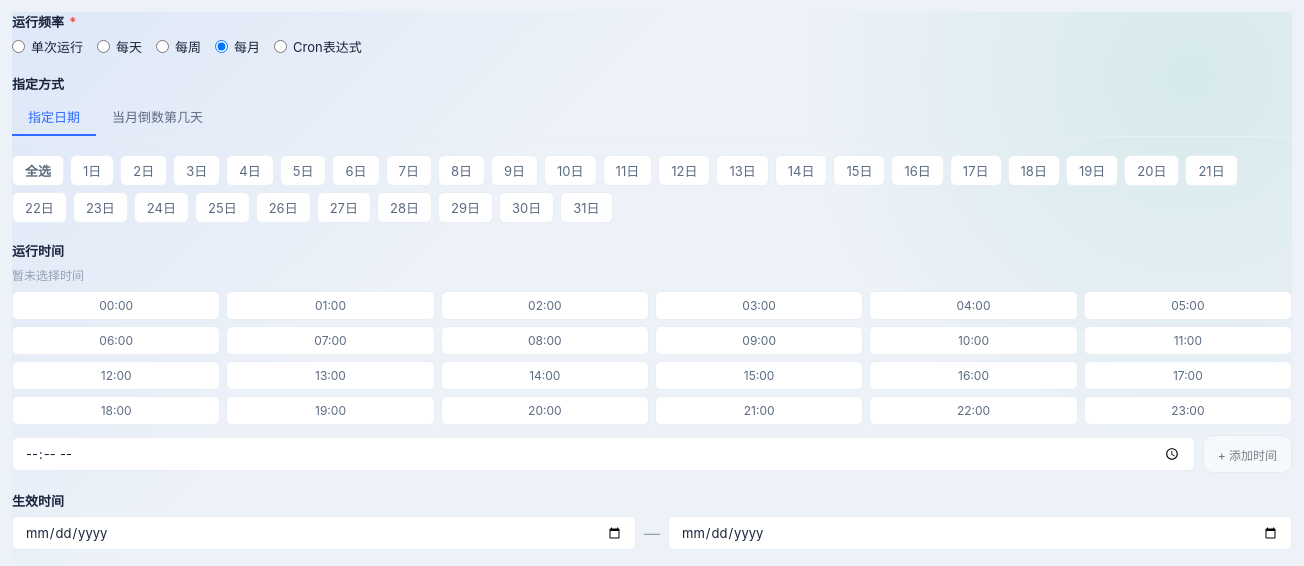
Test case: ScheduleForm - 周天与月份选择 › 切换到「当月倒数第几天」tab 显示第1-5天 chips
Step 1. Click the button "当月倒数第几天" → coordinates (158, 118), box [96, 99, 219, 136]
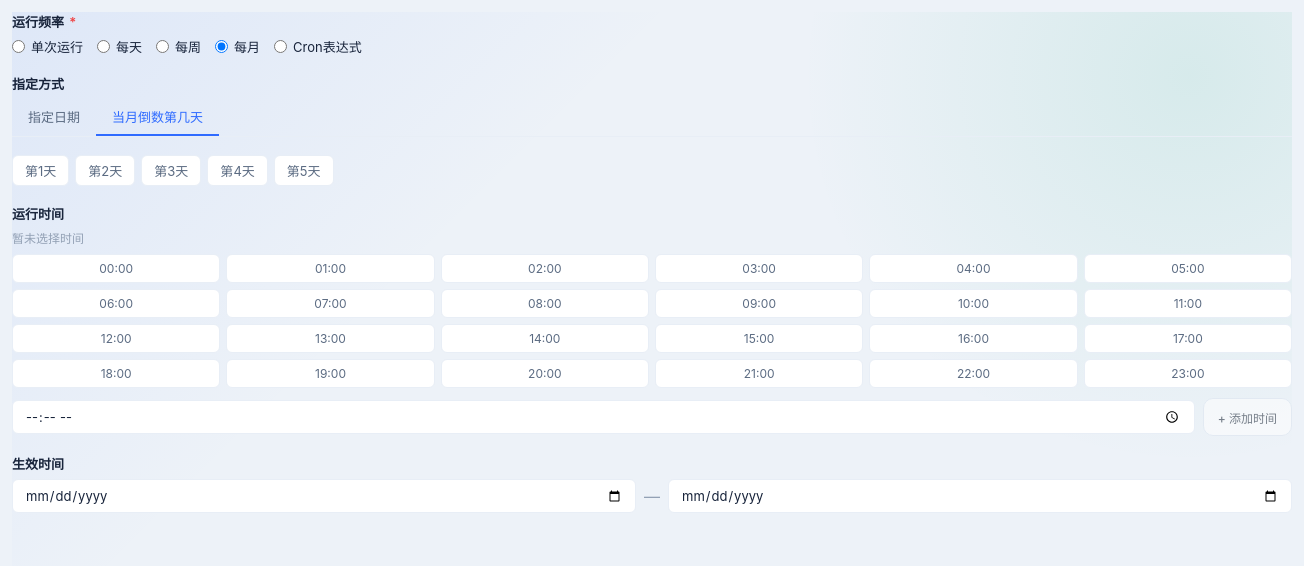
Check: the button "第1天" is shown, box [12, 155, 69, 186]
Check: the button "第5天" is shown, box [274, 155, 334, 186]
